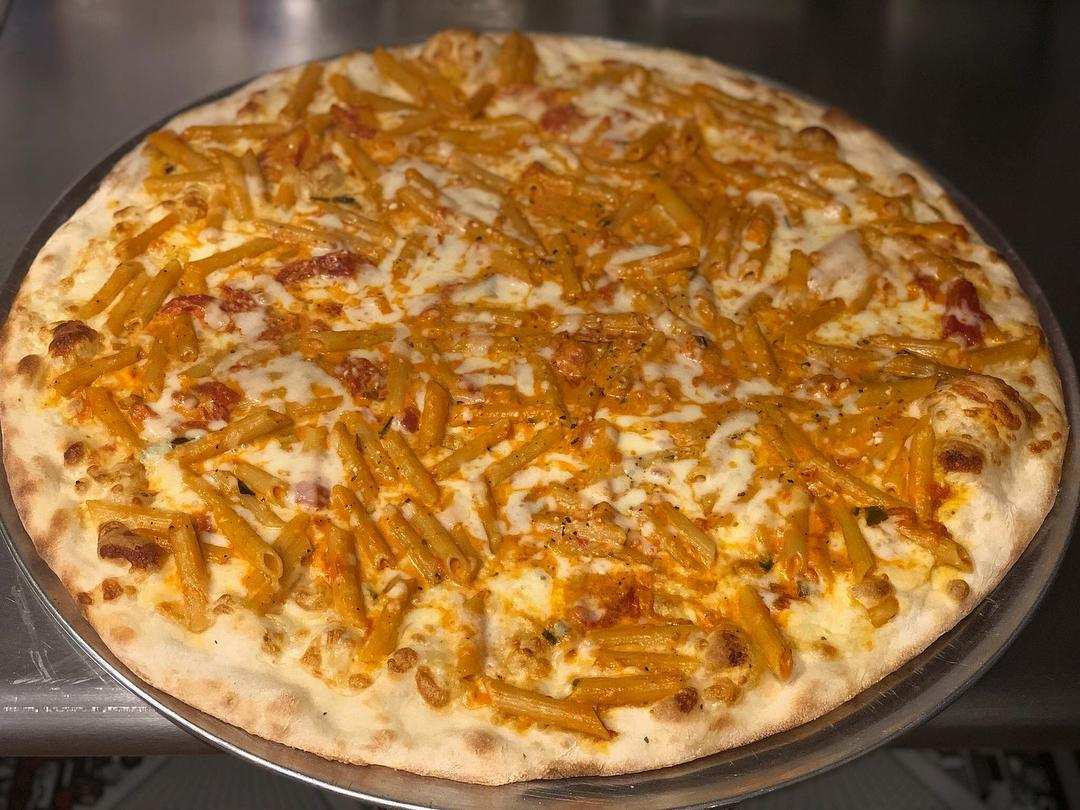Pizza: (0, 14, 1080, 784)
